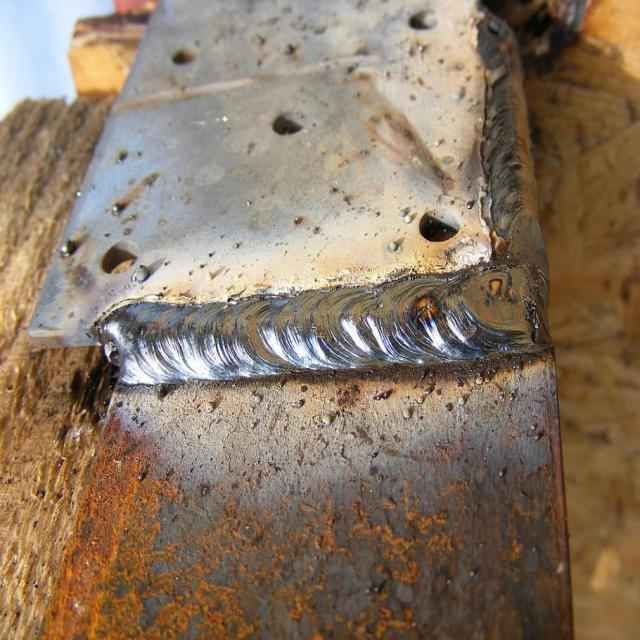Good Weld: (134, 290, 478, 366)
